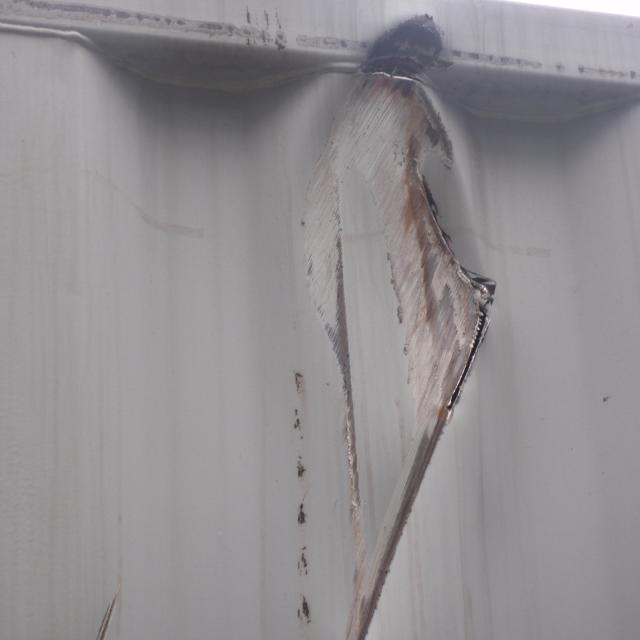dent: (422, 180, 497, 413)
